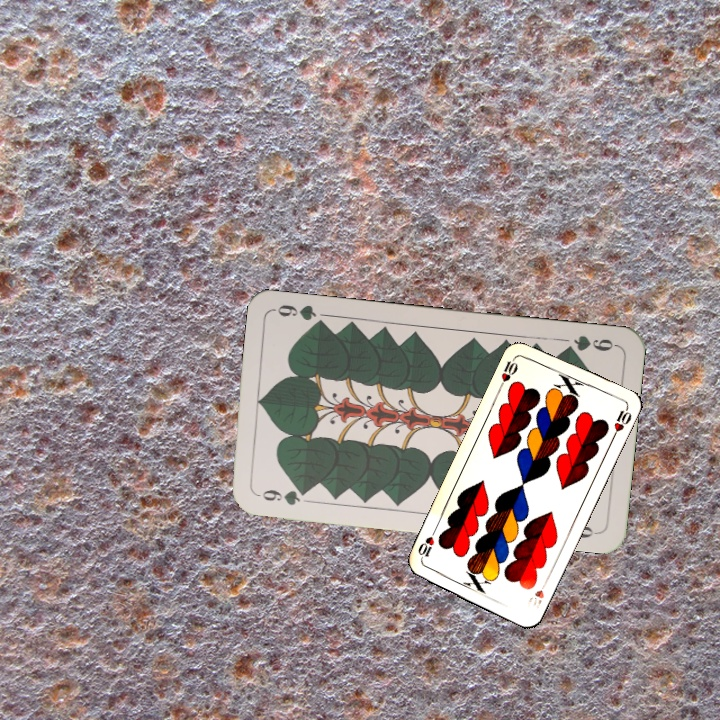G9: (559, 331, 620, 356), (253, 485, 311, 508)
H10: (524, 576, 550, 612), (496, 352, 520, 390)
